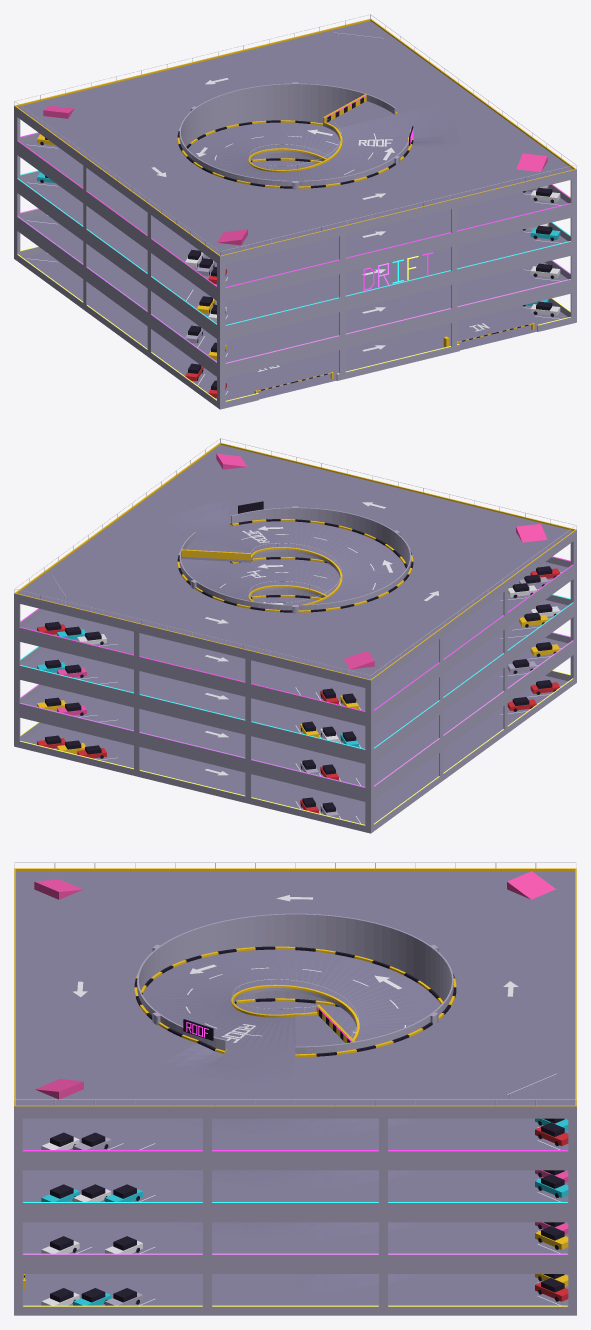
Rendered from parkhaus_drift.glb.
3 views of the same model, one above another, from view 1: azimuth 30°, elevation 25°; view 2: azimuth 150°, elevation 25°; view 3: azimuth 270°, elevation 25° (orthographic). The views are drawn at different scales.
Parts seen in each view (by area): view 1: Drive_Roof, Wall_Facade, Drive_Ground_P1, Drive_Deck_P2, Drive_Deck_P3, Drive_Deck_P4, Drive_Helix_Ramp, Wall_Helix_Drum, Curb_Roof_Edge, Deco_Floor_Markings, Wall_Parked_Cars_Glass, Drive (+8 smaller); view 2: Drive_Roof, Wall_Facade, Drive_Helix_Ramp, Drive_Deck_P4, Drive_Deck_P2, Drive_Deck_P3, Drive_Ground_P1, Wall_Helix_Drum, Wall_Parked_Cars_Glass, Curb_Roof_Edge, Deco_Floor_Markings, Wall_Parked_Cars_Red (+13 smaller); view 3: Drive_Roof, Wall_Facade, Drive_Helix_Ramp, Drive_Deck_P4, Drive_Deck_P2, Drive_Deck_P3, Drive_Ground_P1, Wall_Helix_Drum, Curb_Roof_Edge, Wall_Parked_Cars_Glass, Drive, Rail_Roof_Outer (+12 smaller).
Part boxes in pixels (box(x1,y1,x2,y2)): Drive_Roof: box(18, 20, 573, 255); Wall_Facade: box(14, 106, 576, 409); Drive_Ground_P1: box(23, 251, 567, 400); Drive_Deck_P2: box(23, 214, 567, 362); Drive_Deck_P3: box(23, 178, 567, 324); Drive_Deck_P4: box(23, 140, 567, 286); Drive_Helix_Ramp: box(188, 114, 409, 180); Wall_Helix_Drum: box(179, 83, 411, 186); Curb_Roof_Edge: box(14, 19, 576, 256); Deco_Floor_Markings: box(27, 78, 560, 394); Wall_Parked_Cars_Glass: box(45, 137, 552, 390); Drive: box(43, 105, 547, 245); Drive_Roof: box(17, 444, 572, 679); Wall_Facade: box(14, 530, 576, 833); Drive_Helix_Ramp: box(193, 521, 405, 604); Drive_Deck_P4: box(23, 559, 567, 710); Drive_Deck_P2: box(23, 638, 567, 786); Drive_Deck_P3: box(23, 600, 567, 748); Drive_Ground_P1: box(23, 675, 567, 824); Wall_Helix_Drum: box(179, 507, 411, 610); Wall_Parked_Cars_Glass: box(45, 566, 552, 812); Curb_Roof_Edge: box(14, 443, 576, 680); Deco_Floor_Markings: box(79, 502, 561, 823); Wall_Parked_Cars_Red: box(37, 568, 560, 813); Drive_Roof: box(15, 871, 575, 1105); Wall_Facade: box(14, 1106, 576, 1315); Drive_Helix_Ramp: box(143, 949, 440, 1056); Drive_Deck_P4: box(22, 1118, 568, 1150); Drive_Deck_P2: box(22, 1222, 568, 1253); Drive_Deck_P3: box(22, 1170, 568, 1201); Drive_Ground_P1: box(22, 1274, 568, 1305); Wall_Helix_Drum: box(137, 913, 453, 1054); Curb_Roof_Edge: box(14, 868, 576, 1106); Wall_Parked_Cars_Glass: box(50, 1118, 564, 1302); Drive: box(34, 871, 555, 1099); Rail_Roof_Outer: box(14, 862, 576, 1099).
Bounding box in the file's own units: 64 × 28.4 × 64.
